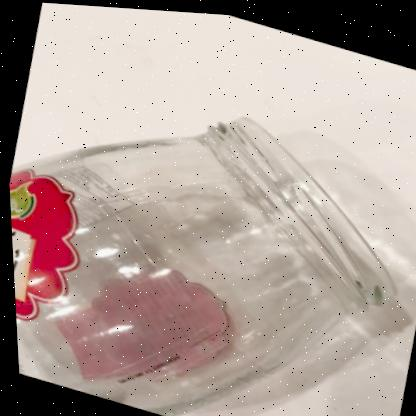Glass: (8, 114, 392, 415)
